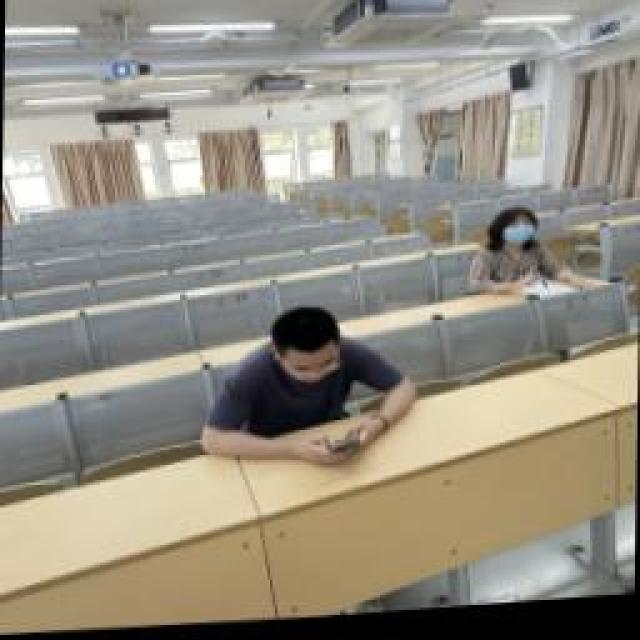phone: (198, 302, 422, 480)
study: (468, 210, 590, 315)
